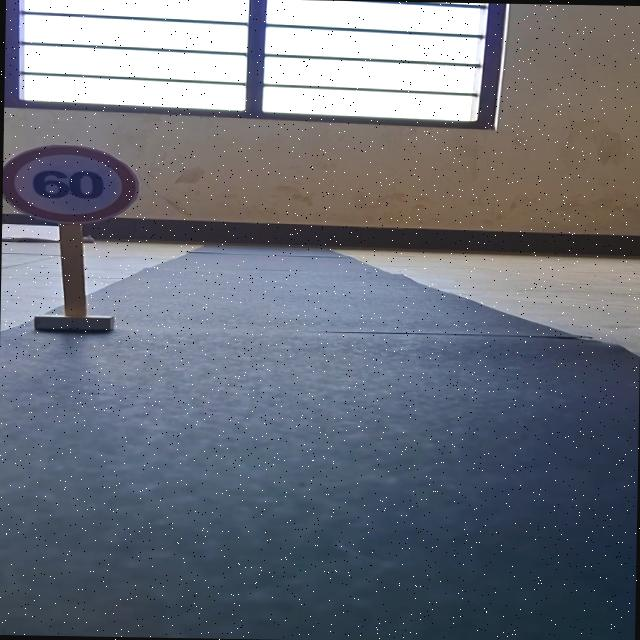Speed60: (2, 142, 145, 227)
